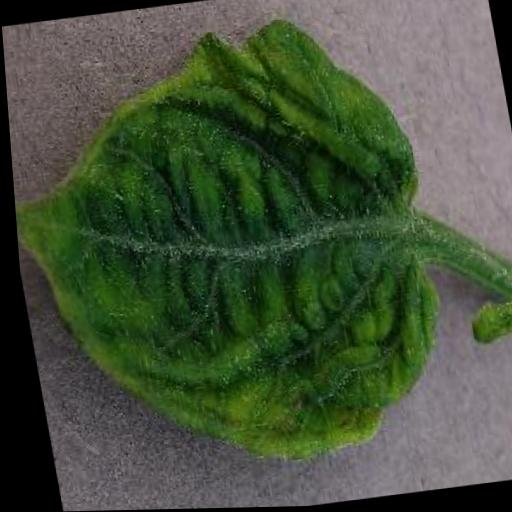Yellow Leaf Curl Virus: (1, 5, 462, 492)
